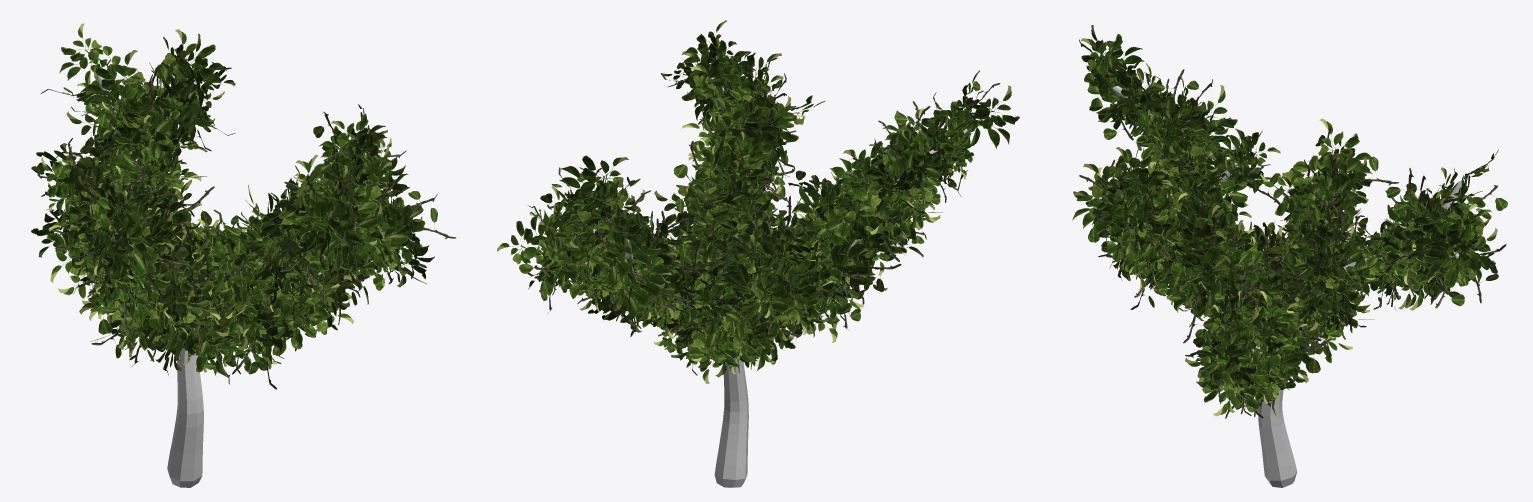
File: ArbolPrueba1.fbx
3 renders of one model, left to right at view 1: azimuth 30°, elevation 25°; view 2: azimuth 150°, elevation 25°; view 3: azimuth 270°, elevation 25°, orthographic. The views are drawn at different scales.
Parts seen in each view (by area): view 1: rama.357; view 2: rama.357; view 3: rama.357.
Part boxes in pixels (x1,y1,x2,y2): rama.357: (31,23,456,487); rama.357: (497,20,1019,487); rama.357: (1072,25,1507,487).
Bounding box in the file's own units: 241 × 217 × 236.
